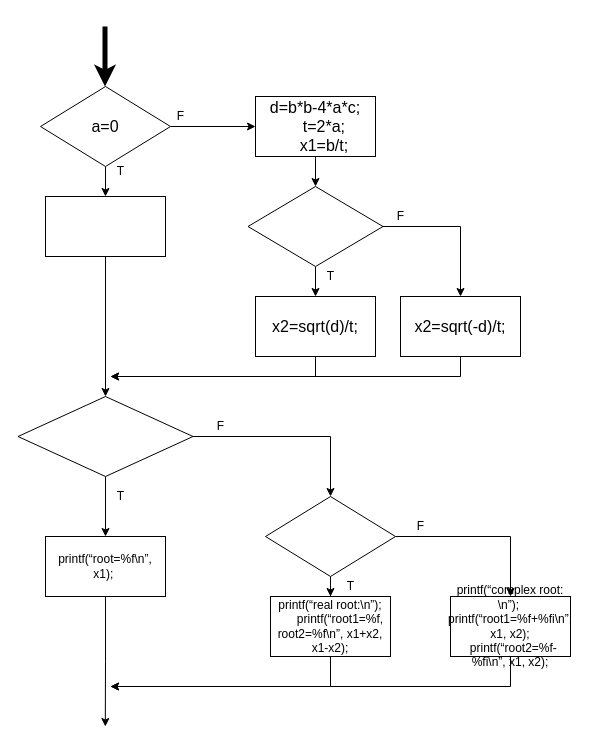
Some shapes in this 589 by 752 pixel diagram are drawn without their labels. The centre of each missing label's shape, as x and y in pixels:
a == 0: the point at 105,436
d>0: the point at 330,536
d>=0: the point at 315,226
x1=-c/b: the point at 105,226
